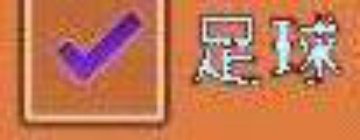CheckBox: (1, 1, 359, 139)
